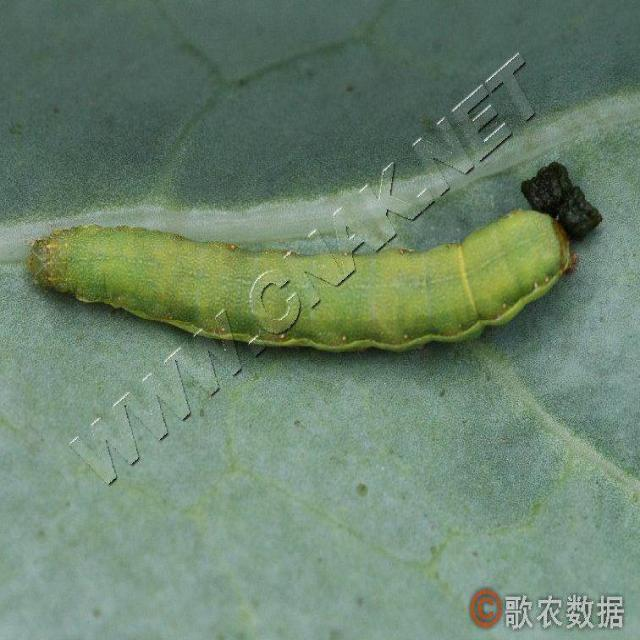BeetArmyWorm-Larva-: (29, 206, 578, 356)
